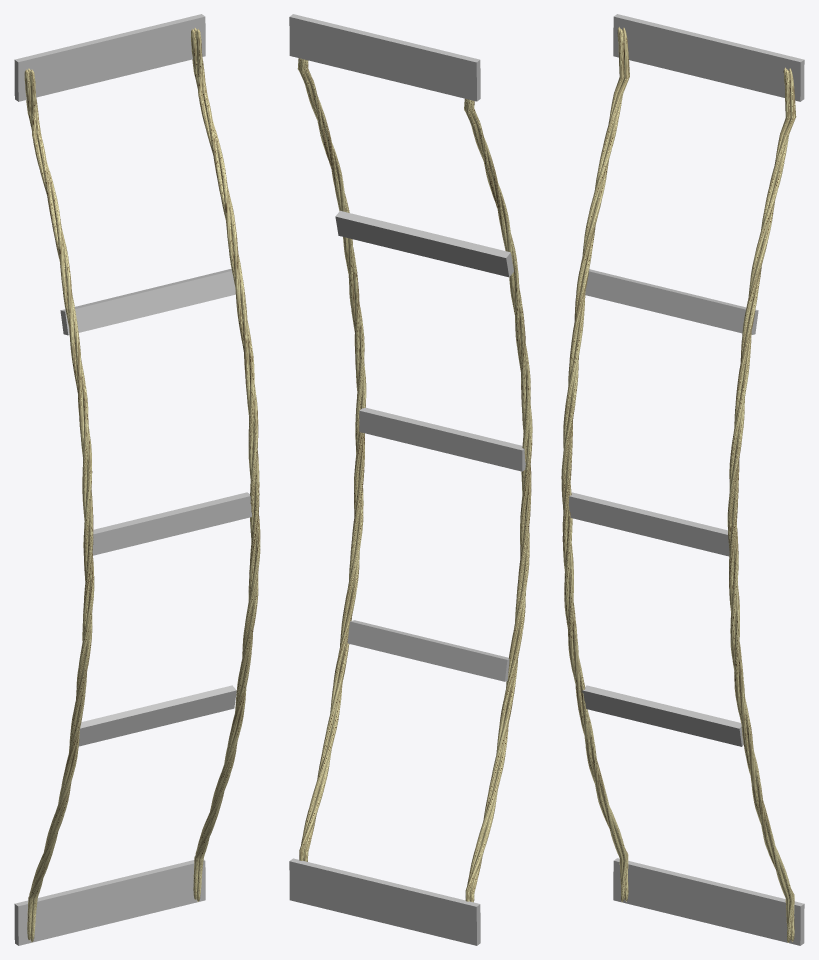
The model's file is bridge.fbx.
The picture shows the model from 3 angles, left to right: view 1: azimuth 30°, elevation 25°; view 2: azimuth 150°, elevation 25°; view 3: azimuth 330°, elevation 25°; orthographic projection.
Visible parts, largest first — view 1: polySurface3, polySurface2, pCube18, pCube17, pCube10, pCube1, pCube4; view 2: pCube18, pCube17, polySurface3, polySurface2, pCube10, pCube1, pCube4; view 3: polySurface2, polySurface3, pCube18, pCube17, pCube10, pCube1, pCube4.
Part boxes in pixels (left/top/right/bottom): polySurface3: left=24, top=68, right=94, bottom=942; polySurface2: left=190, top=28, right=260, bottom=901; pCube18: left=14, top=14, right=205, bottom=101; pCube17: left=14, top=860, right=205, bottom=945; pCube10: left=60, top=269, right=235, bottom=335; pCube1: left=92, top=492, right=251, bottom=555; pCube4: left=78, top=685, right=236, bottom=746; pCube18: left=289, top=14, right=480, bottom=101; pCube17: left=289, top=858, right=480, bottom=945; polySurface3: left=464, top=98, right=532, bottom=902; polySurface2: left=297, top=58, right=366, bottom=861; pCube10: left=335, top=210, right=513, bottom=277; pCube1: left=359, top=407, right=525, bottom=471; pCube4: left=347, top=620, right=509, bottom=681; polySurface2: left=727, top=67, right=796, bottom=942; polySurface3: left=561, top=27, right=629, bottom=902; pCube18: left=613, top=14, right=804, bottom=101; pCube17: left=613, top=858, right=804, bottom=945; pCube10: left=585, top=269, right=758, bottom=334; pCube1: left=568, top=492, right=729, bottom=556; pCube4: left=582, top=685, right=743, bottom=746.
Size of the model in its own units: 11.61 by 52.34 by 6.96.
